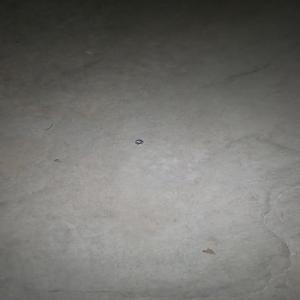Nut: (133, 139, 142, 145)
